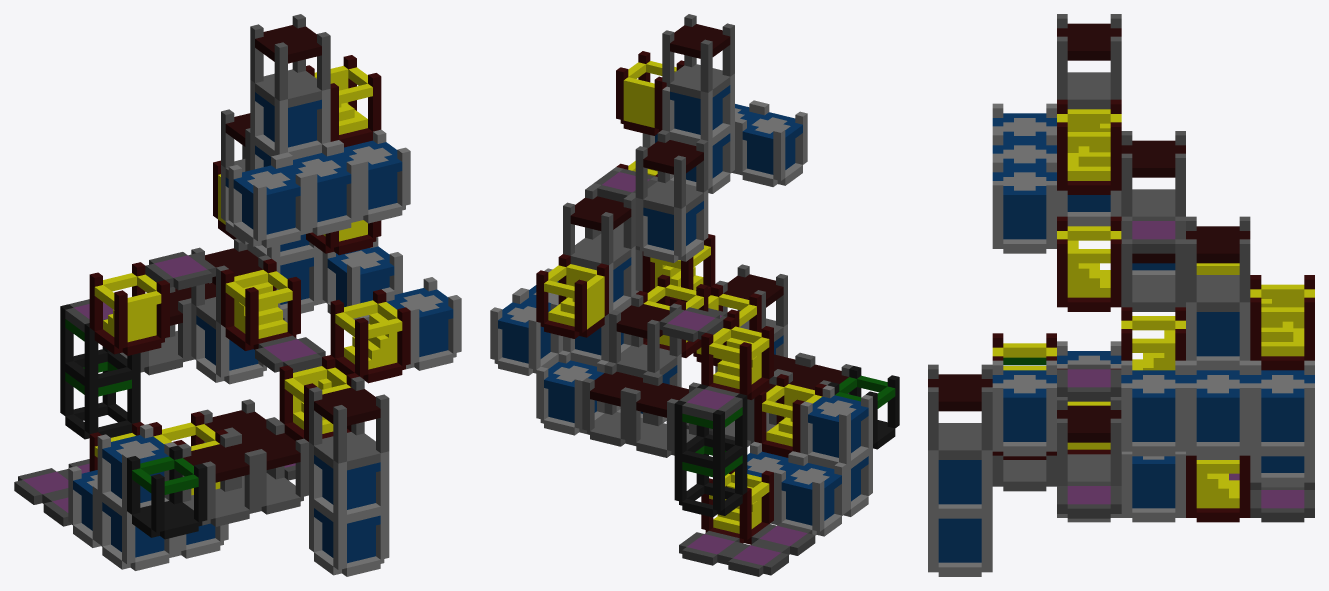
Rendered from map3.obj.
The picture shows the model from 3 angles, left to right: view 1: azimuth 30°, elevation 25°; view 2: azimuth 150°, elevation 25°; view 3: azimuth 270°, elevation 25°; orthographic projection. The views are drawn at different scales.
Visible parts, largest first — view 1: map3; view 2: map3; view 3: map3.
Boxes of the visible parts, bbox=[...] form: map3: bbox=[14, 14, 461, 576]; map3: bbox=[490, 14, 899, 576]; map3: bbox=[928, 14, 1314, 576].
Size of the model in its own units: 36 by 55 by 36.
